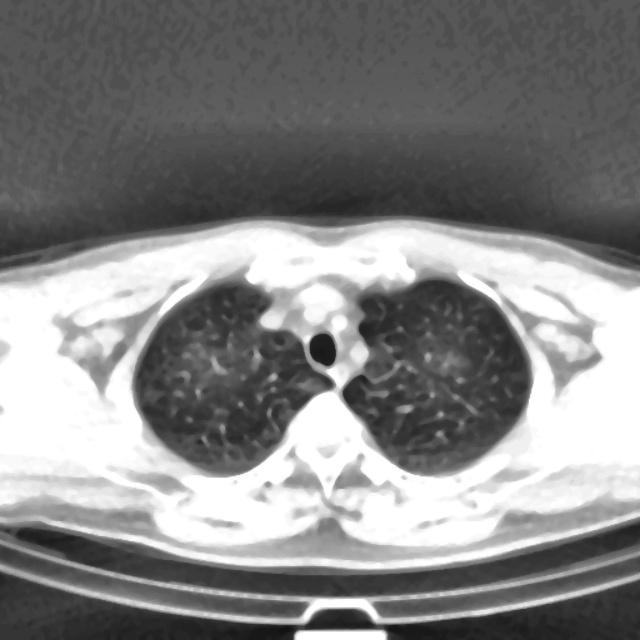covid: (0, 213, 639, 578)
